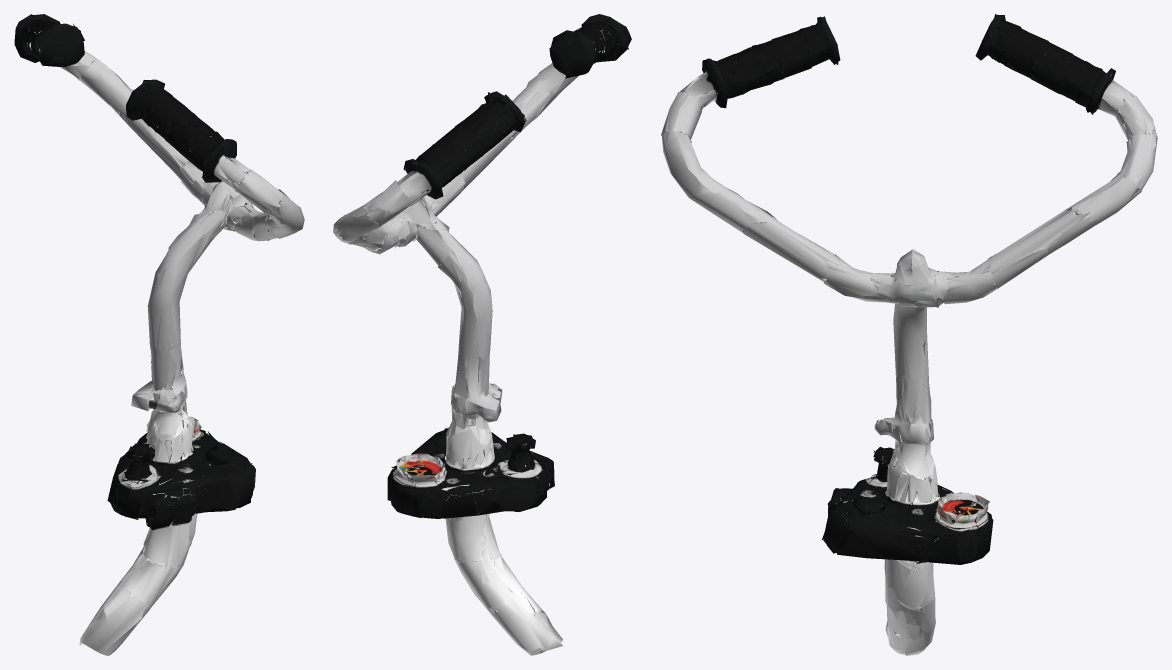
Rendered from steering.glb.
3 views of the same model, side by side, from view 1: azimuth 30°, elevation 25°; view 2: azimuth 150°, elevation 25°; view 3: azimuth 270°, elevation 25° (orthographic). The views are drawn at different scales.
Parts seen in each view (by area): view 1: Mesh_0; view 2: Mesh_0; view 3: Mesh_0.
Part boxes in pixels (left/top/right/bottom): Mesh_0: left=14, top=14, right=304, bottom=655; Mesh_0: left=333, top=14, right=631, bottom=655; Mesh_0: left=661, top=14, right=1157, bottom=655.
Size of the model in its own units: 0.5715 by 1.87 by 1.33.
1 material, 1 textured.
